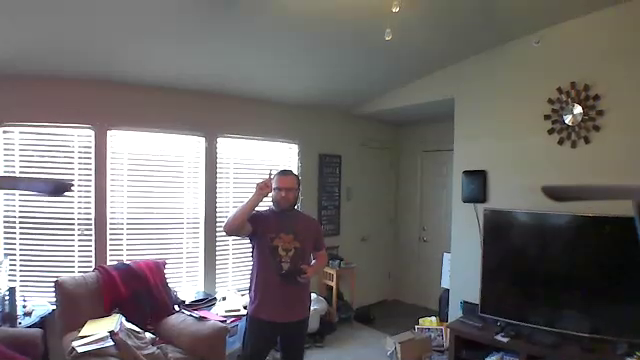up: (253, 169, 278, 200)
